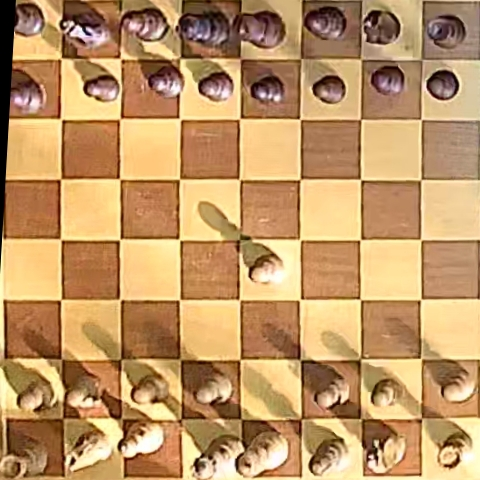black-bishop: (122, 8, 169, 43), (304, 6, 345, 40)
black-king: (235, 11, 283, 48)
black-knight: (60, 10, 110, 50), (363, 10, 400, 45)
black-pawn: (11, 76, 46, 113), (148, 66, 184, 98), (198, 71, 234, 102), (426, 69, 459, 100), (371, 66, 405, 96), (250, 75, 284, 104), (84, 75, 119, 103), (313, 75, 346, 104)
black-queen: (178, 10, 231, 47)
black-rook: (425, 15, 465, 49), (14, 3, 44, 36)
white-bishop: (118, 421, 164, 458), (309, 437, 350, 476)
white-king: (237, 431, 288, 477)
white-knight: (66, 430, 113, 473), (366, 431, 407, 472)
white-pawn: (440, 366, 477, 403), (194, 370, 233, 405), (66, 374, 103, 410), (314, 373, 350, 408), (18, 379, 56, 412), (131, 374, 169, 405), (249, 253, 285, 284), (371, 378, 402, 407)
white-queen: (192, 434, 244, 479)
white-rook: (1, 438, 47, 477), (437, 430, 473, 469)
